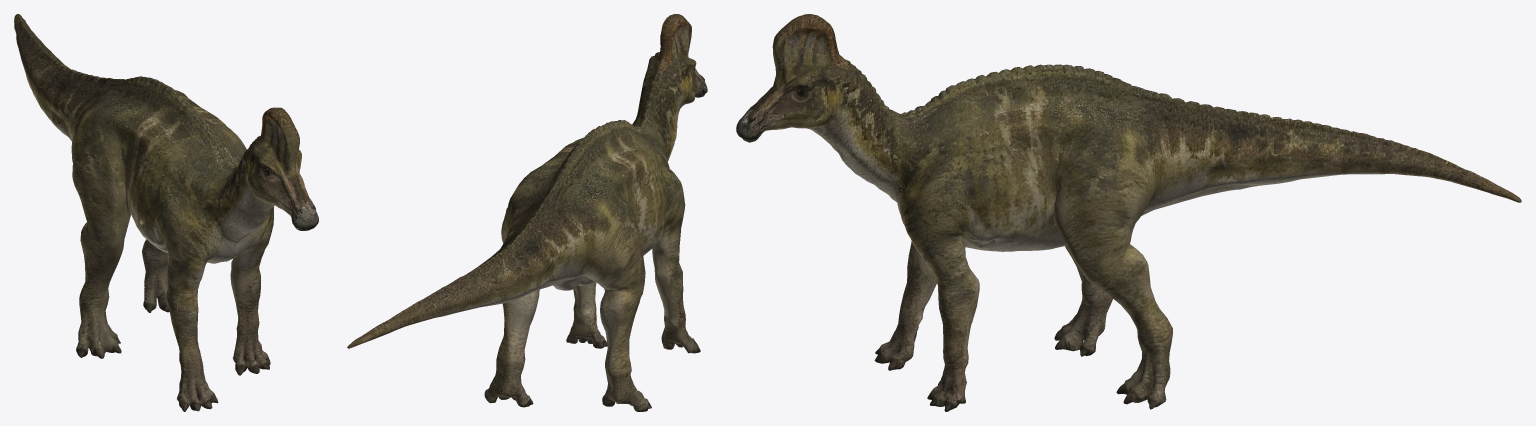
The model's file is corythosaurus.glb.
The picture shows the model from 3 angles, left to right: view 1: azimuth 30°, elevation 25°; view 2: azimuth 150°, elevation 25°; view 3: azimuth 270°, elevation 25°; orthographic projection. The views are drawn at different scales.
Visible parts, largest first — view 1: dino; view 2: dino; view 3: dino.
Part boxes in pixels (box(x1,y1,x2,y2)): dino: box(14, 14, 318, 411); dino: box(347, 14, 707, 411); dino: box(736, 14, 1521, 411).
Size of the model in its own units: 2.2 by 4.68 by 9.
1 material, 1 textured.
